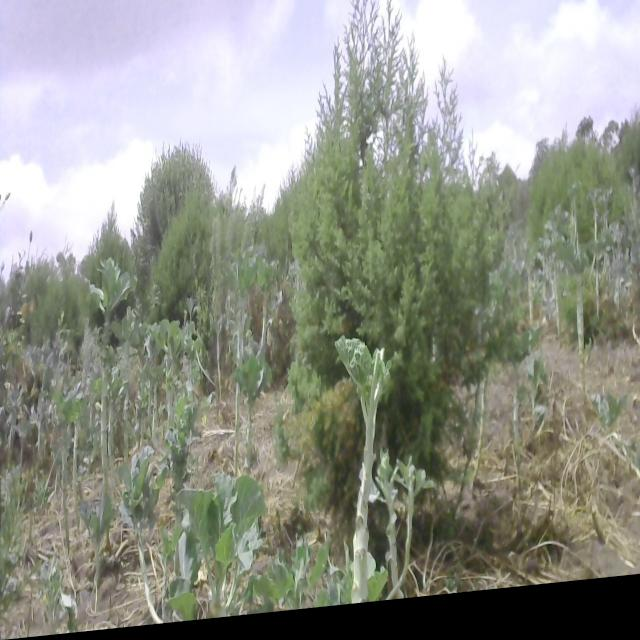cedrus: (290, 0, 502, 528), (152, 200, 212, 324), (574, 140, 618, 264), (528, 138, 574, 250), (81, 204, 134, 288)
other: (132, 128, 218, 287)
